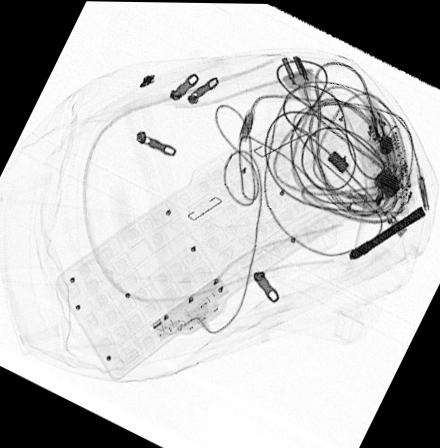Gun: (347, 203, 424, 258)
